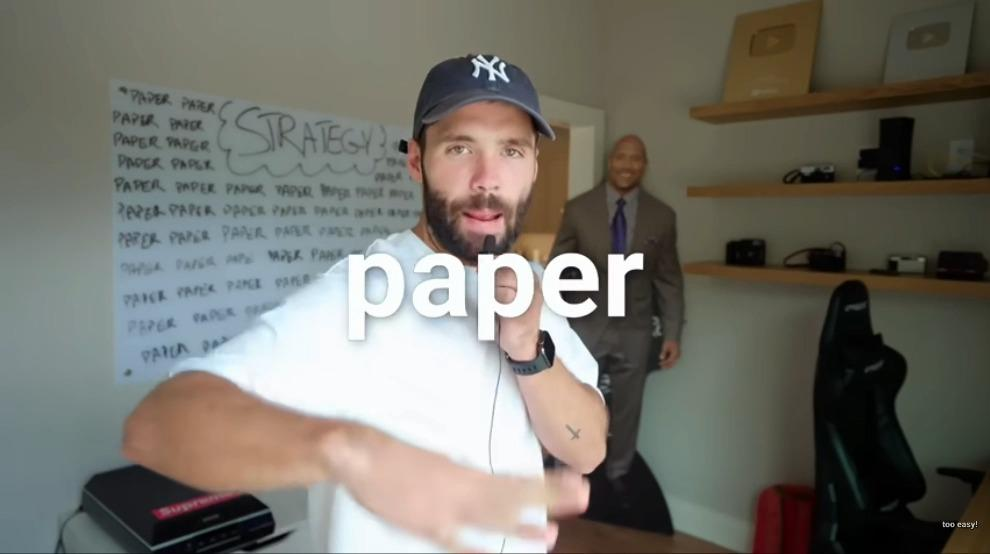Paper: (331, 421, 590, 553)
